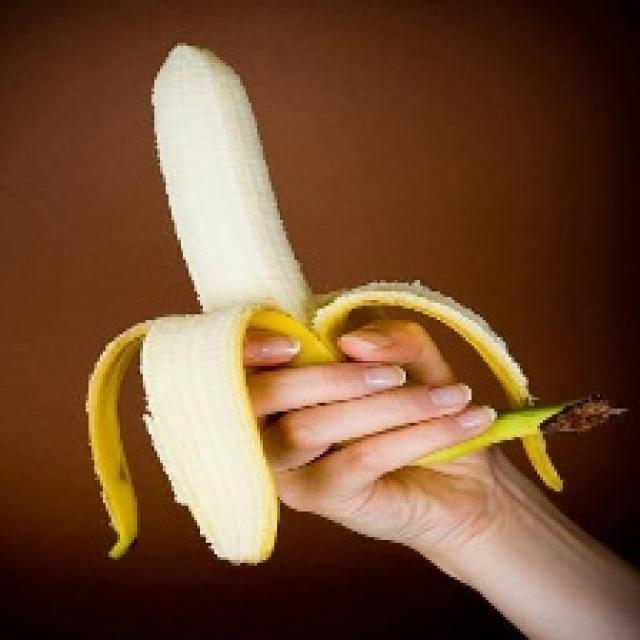Banana: (83, 40, 623, 566)
